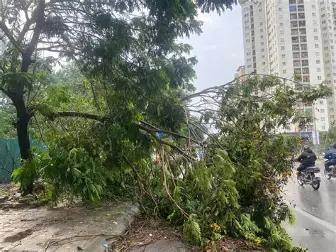ROAD_OBSTACLE: (30, 20, 336, 244)
